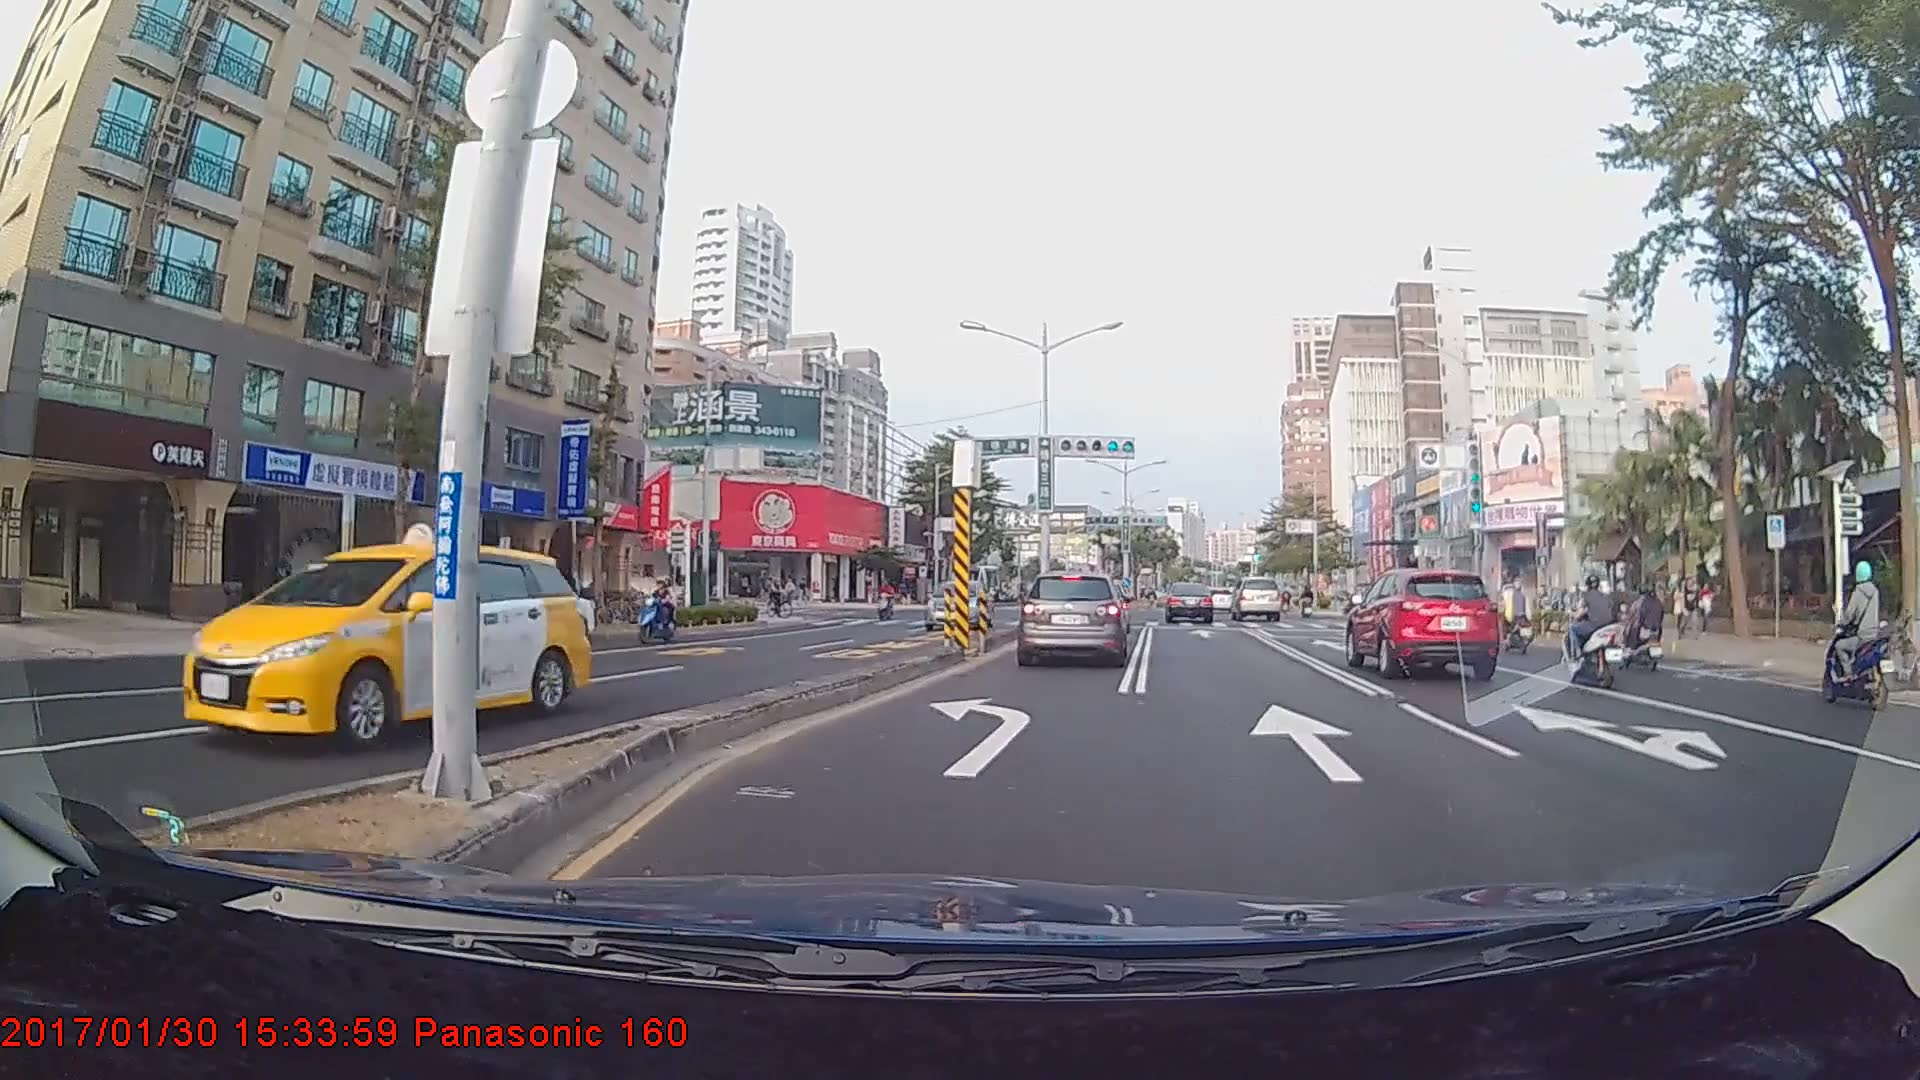pedestrian: (1679, 579, 1701, 642)
rider: (1807, 561, 1891, 719), (1556, 571, 1630, 687), (1612, 575, 1663, 674), (632, 576, 683, 650), (867, 577, 898, 625), (761, 576, 792, 622)
vehicle: (176, 540, 587, 749), (1346, 564, 1502, 679), (1018, 570, 1127, 668), (921, 580, 991, 630), (1228, 576, 1282, 622), (1165, 581, 1213, 624)
